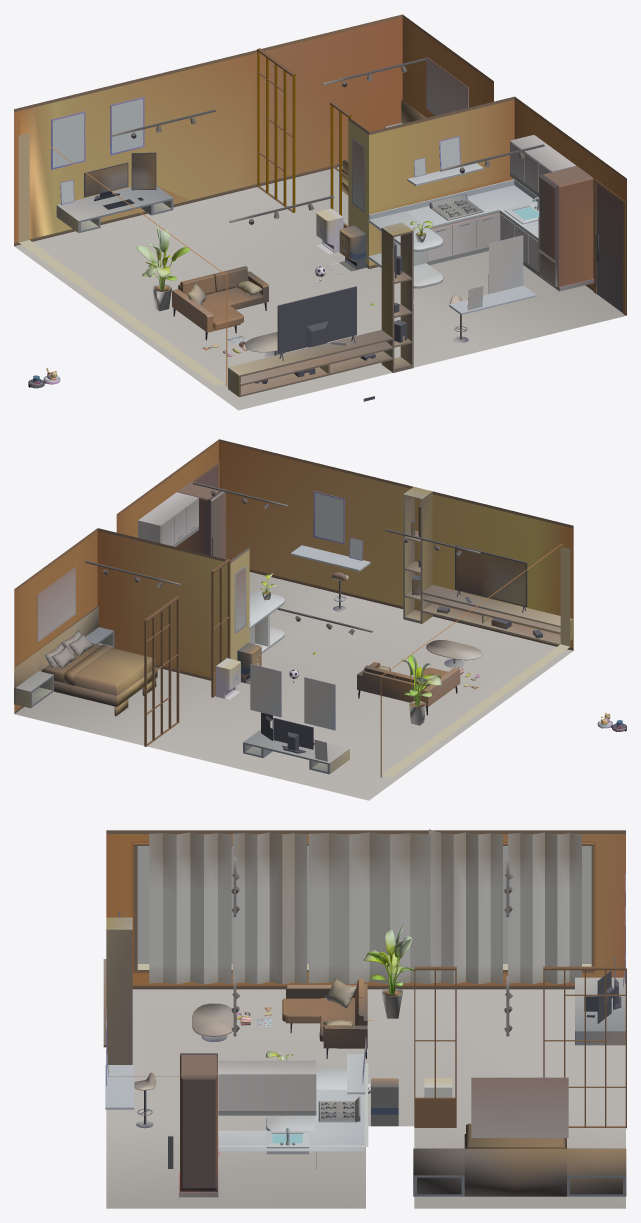
File: room.glb
The picture shows the model from 3 angles, top to bottom: view 1: azimuth 30°, elevation 25°; view 2: azimuth 150°, elevation 25°; view 3: azimuth 270°, elevation 25°; orthographic projection. The views are drawn at different scales.
Parts seen in each view (by area): view 1: walls, floor, tv, floor.001, cavins, table4, freezeer, sofa, door, table3, floor.002, tablelarge.001 (+8 smaller); view 2: walls, floor, tv, bed, floor.002, table4, floor.001, table3, sofa, cavins, freezeer, cuadros (+5 smaller); view 3: walls, floor, floor.001, bed, cavins, cuadros, freezeer, floor.002, sofa, tv, table4, plant (+8 smaller).
Boxes of the visible parts, box(x1,y1,x2,y2) form: walls: box(14, 14, 626, 386); floor: box(14, 187, 480, 410); tv: box(228, 222, 413, 401); floor.001: box(369, 251, 626, 351); cavins: box(368, 135, 594, 291); table4: box(51, 97, 188, 232); freezeer: box(538, 166, 593, 287); sofa: box(172, 266, 268, 340); door: box(593, 179, 625, 315); table3: box(449, 235, 536, 314); floor.002: box(257, 166, 348, 229); tablelarge.001: box(368, 211, 443, 288); walls: box(14, 439, 573, 777); floor: box(148, 597, 573, 800); tv: box(403, 487, 572, 645); bed: box(14, 606, 157, 716); floor.002: box(14, 668, 215, 746); table4: box(243, 664, 349, 774); floor.001: box(249, 572, 351, 662); table3: box(291, 491, 370, 573); sofa: box(357, 662, 460, 715); cavins: box(138, 492, 250, 626); freezeer: box(176, 481, 225, 559); cuadros: box(37, 567, 75, 642); walls: box(106, 829, 626, 1128); floor: box(106, 989, 625, 1126); floor.001: box(106, 1126, 365, 1208); bed: box(413, 1123, 626, 1196); cavins: box(179, 1060, 368, 1197); cuadros: box(471, 1077, 568, 1137); freezeer: box(180, 1053, 217, 1191); floor.002: box(414, 1126, 625, 1208); sofa: box(282, 978, 367, 1058); tv: box(103, 911, 132, 1064); table4: box(575, 873, 625, 1045); plant: box(363, 924, 414, 1018).
Size of the model in its own units: 216 by 56.12 by 189.
